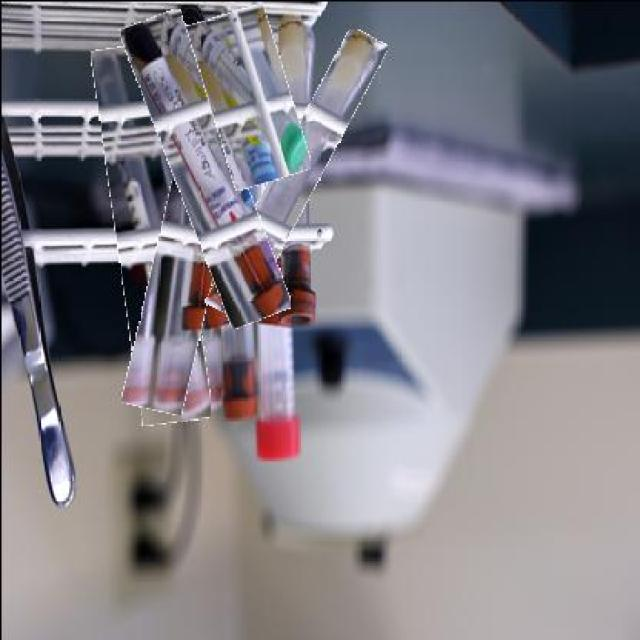Experimental-tube: (145, 5, 264, 327), (140, 45, 242, 413), (102, 42, 200, 423), (238, 21, 352, 325), (196, 6, 299, 186)
